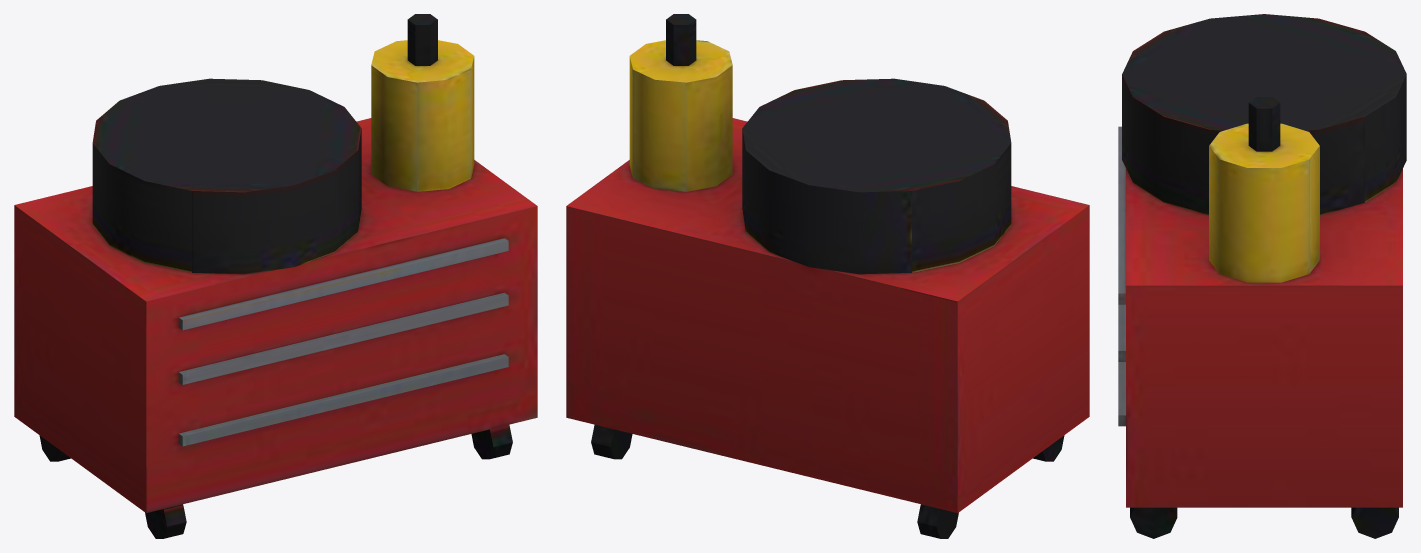
The model's file is carro_boxes.glb.
3 renders of one model, left to right at view 1: azimuth 30°, elevation 25°; view 2: azimuth 150°, elevation 25°; view 3: azimuth 270°, elevation 25°, orthographic. The views are drawn at different scales.
Visible parts, largest first — view 1: carro_boxes; view 2: carro_boxes; view 3: carro_boxes.
Boxes of the visible parts, left/top/right/bottom form: carro_boxes: left=14, top=14, right=537, bottom=538; carro_boxes: left=566, top=14, right=1089, bottom=538; carro_boxes: left=1118, top=14, right=1406, bottom=538.
Size of the model in its own units: 1.2 by 1.18 by 0.73.
Materials: 1 (1 with a texture image).
